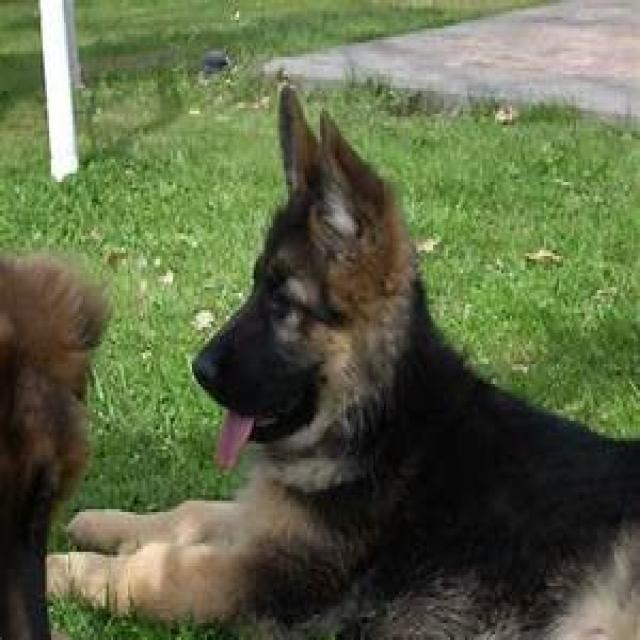animal: (86, 78, 624, 640)
